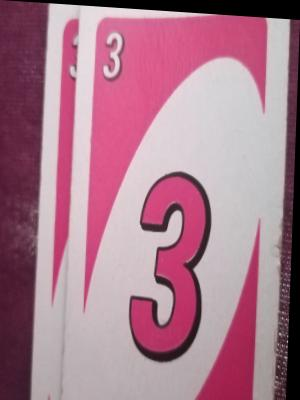num_3: (100, 22, 129, 87), (66, 23, 88, 89)
